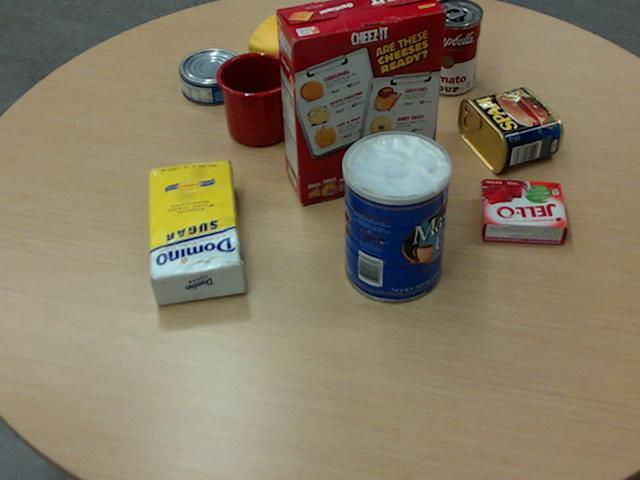cracker_box: (275, 0, 446, 202)
gelatin_box: (480, 177, 566, 242)
large_marker: (391, 33, 410, 123)
master_chef_can: (341, 130, 450, 303)
mug: (215, 51, 310, 145)
mustard_bottle: (247, 12, 394, 88)
potted_meat_can: (456, 86, 562, 172)
sugar_box: (146, 158, 243, 305)
tomato_soup_can: (424, 0, 482, 94)
tuna_fish_can: (178, 47, 245, 103)
